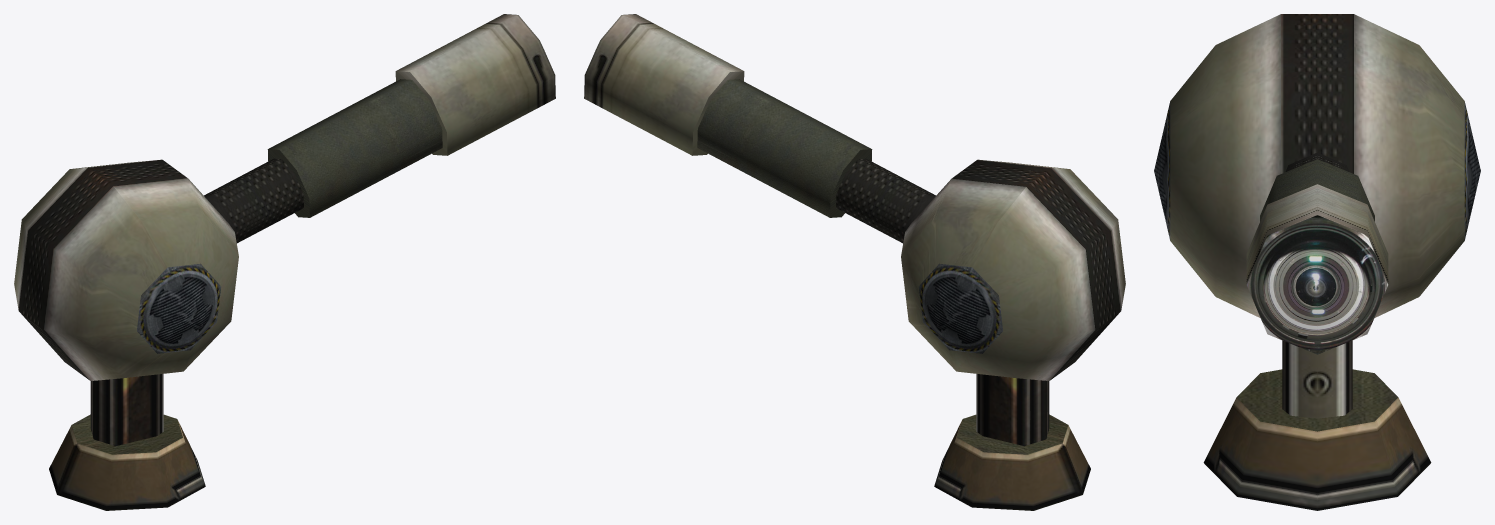
The model's file is telescope.obj.
3 views of the same model, side by side, from view 1: azimuth 30°, elevation 25°; view 2: azimuth 150°, elevation 25°; view 3: azimuth 270°, elevation 25° (orthographic). The views are drawn at different scales.
Parts seen in each view (by area): view 1: pSphere12 group32, pSphere12 group32 pCylinder32 pCylinder35, pSphere12 group32 pCylinder32 pCylinder31, group32 pCylinder33, pSphere12 group32 pCylinder32, group32 pCylinder34; view 2: pSphere12 group32, pSphere12 group32 pCylinder32 pCylinder35, pSphere12 group32 pCylinder32 pCylinder31, group32 pCylinder33, pSphere12 group32 pCylinder32, group32 pCylinder34; view 3: pSphere12 group32, group32 pCylinder33, pSphere12 group32 pCylinder32 pCylinder35, group32 pCylinder34, pSphere12 group32 pCylinder32 pCylinder31, pSphere12 group32 pCylinder32.
Part boxes in pixels (x1=…): pSphere12 group32: x1=14, y1=159, x2=238, y2=380; pSphere12 group32 pCylinder32 pCylinder35: x1=395, y1=14, x2=555, y2=155; pSphere12 group32 pCylinder32 pCylinder31: x1=267, y1=79, x2=442, y2=217; group32 pCylinder33: x1=49, y1=414, x2=205, y2=510; pSphere12 group32 pCylinder32: x1=204, y1=158, x2=303, y2=243; group32 pCylinder34: x1=90, y1=374, x2=163, y2=446; pSphere12 group32: x1=901, y1=159, x2=1125, y2=380; pSphere12 group32 pCylinder32 pCylinder35: x1=584, y1=14, x2=744, y2=155; pSphere12 group32 pCylinder32 pCylinder31: x1=697, y1=79, x2=872, y2=217; group32 pCylinder33: x1=934, y1=414, x2=1090, y2=510; pSphere12 group32 pCylinder32: x1=836, y1=158, x2=935, y2=243; group32 pCylinder34: x1=976, y1=374, x2=1049, y2=446; pSphere12 group32: x1=1154, y1=14, x2=1480, y2=317; group32 pCylinder33: x1=1203, y1=369, x2=1431, y2=510; pSphere12 group32 pCylinder32 pCylinder35: x1=1246, y1=184, x2=1388, y2=354; group32 pCylinder34: x1=1282, y1=340, x2=1352, y2=418; pSphere12 group32 pCylinder32 pCylinder31: x1=1260, y1=159, x2=1374, y2=221; pSphere12 group32 pCylinder32: x1=1285, y1=152, x2=1349, y2=171.
Bounding box in the file's own units: 12.5 × 8.57 × 4.93.
Materials: 5 (5 with a texture image).
